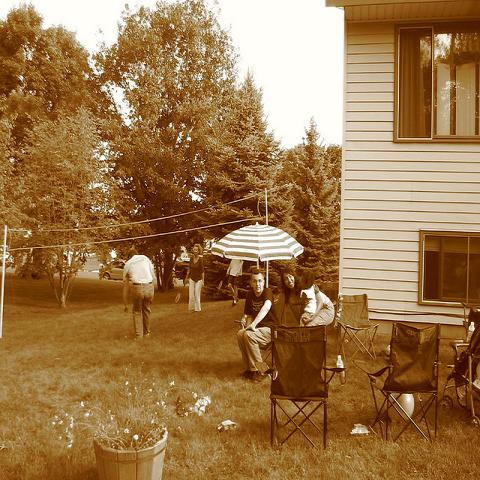car: (99, 258, 126, 281)
